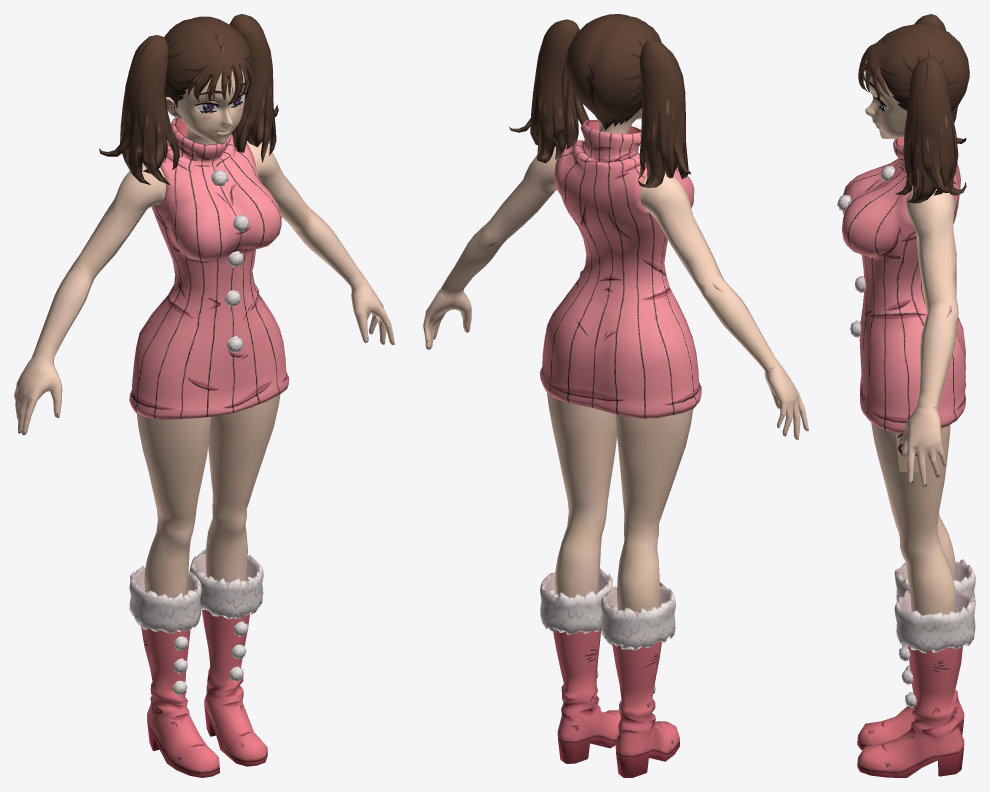
3 views of the same model, side by side, from view 1: azimuth 30°, elevation 25°; view 2: azimuth 150°, elevation 25°; view 3: azimuth 270°, elevation 25° (orthographic).
Parts seen in each view (by area): view 1: 10_body_0.1_0_0, 10_hair_0.1_0_0, 10_head_0.1_0_0; view 2: 10_body_0.1_0_0, 10_hair_0.1_0_0; view 3: 10_body_0.1_0_0, 10_hair_0.1_0_0, 10_head_0.1_0_0.
Boxes of the visible parts, x1,y1,x2,y2 form: 10_body_0.1_0_0: (14,117,394,777); 10_hair_0.1_0_0: (99,14,278,185); 10_head_0.1_0_0: (166,68,248,144); 10_body_0.1_0_0: (423,107,808,777); 10_hair_0.1_0_0: (509,14,690,187); 10_body_0.1_0_0: (837,137,975,777); 10_hair_0.1_0_0: (858,14,969,203); 10_head_0.1_0_0: (865,75,907,138).
Bounding box in the file's own units: 0.8376 × 1.56 × 0.2699.
